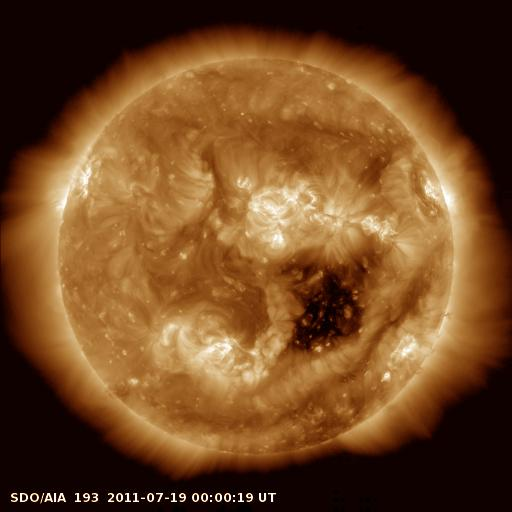coronal_hole: (273, 241, 385, 370)
